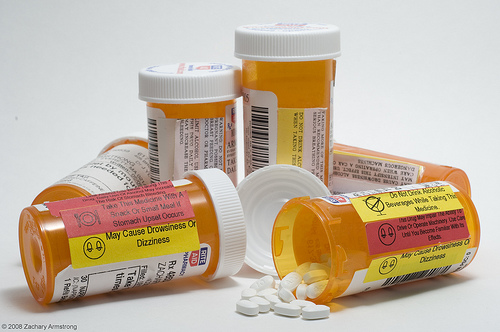pill bottle: (21, 167, 248, 311), (275, 179, 480, 303), (234, 21, 343, 196), (139, 60, 241, 189)
